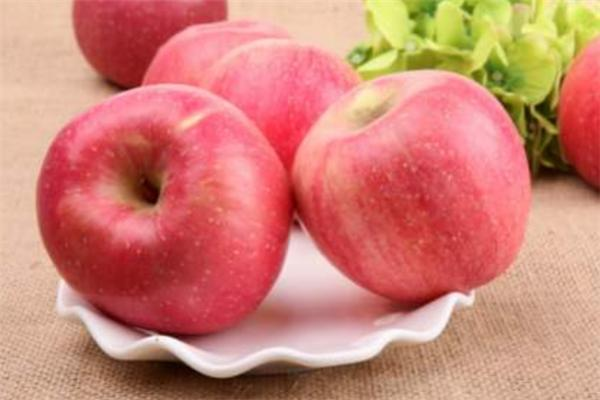apple: (34, 84, 292, 337), (290, 85, 525, 298), (71, 2, 226, 87)
